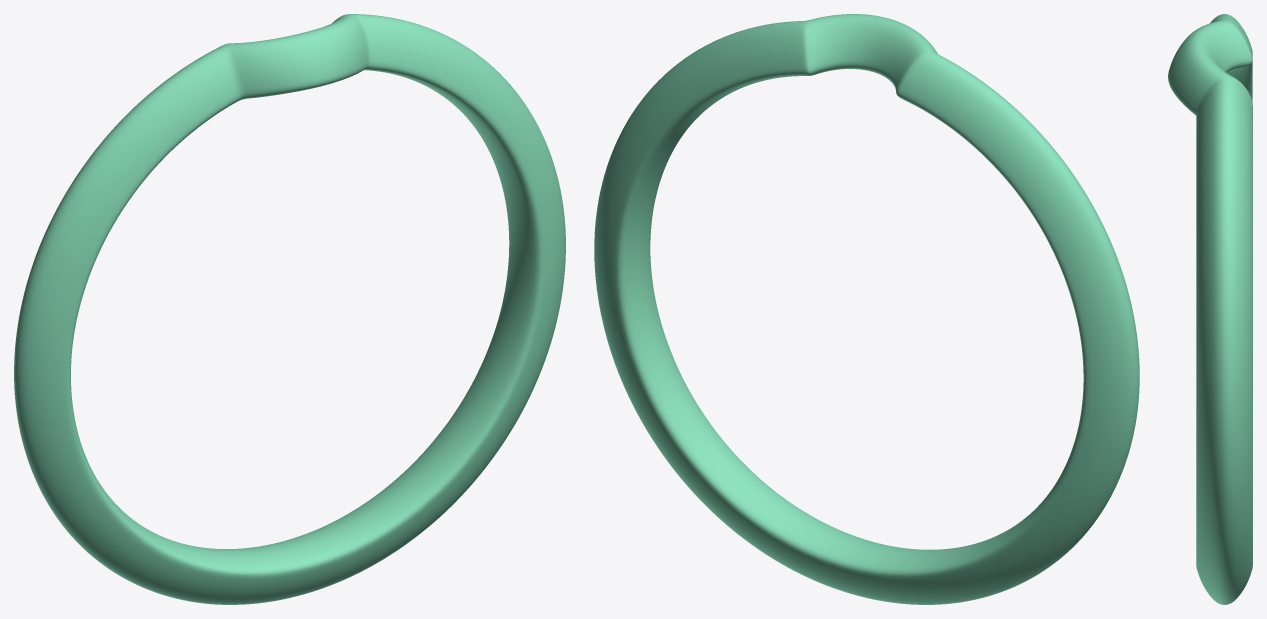
The picture shows the model from 3 angles, left to right: view 1: azimuth 30°, elevation 25°; view 2: azimuth 150°, elevation 25°; view 3: azimuth 270°, elevation 25°; orthographic projection. The views are drawn at different scales.
Visible parts, largest first — view 1: Metal03; view 2: Metal03; view 3: Metal03.
Part boxes in pixels (<box>): Metal03: <box>14,14,565,604</box>; Metal03: <box>594,14,1139,604</box>; Metal03: <box>1168,14,1252,604</box>.
Bounding box in the file's own units: 20.89 × 20.89 × 3.
